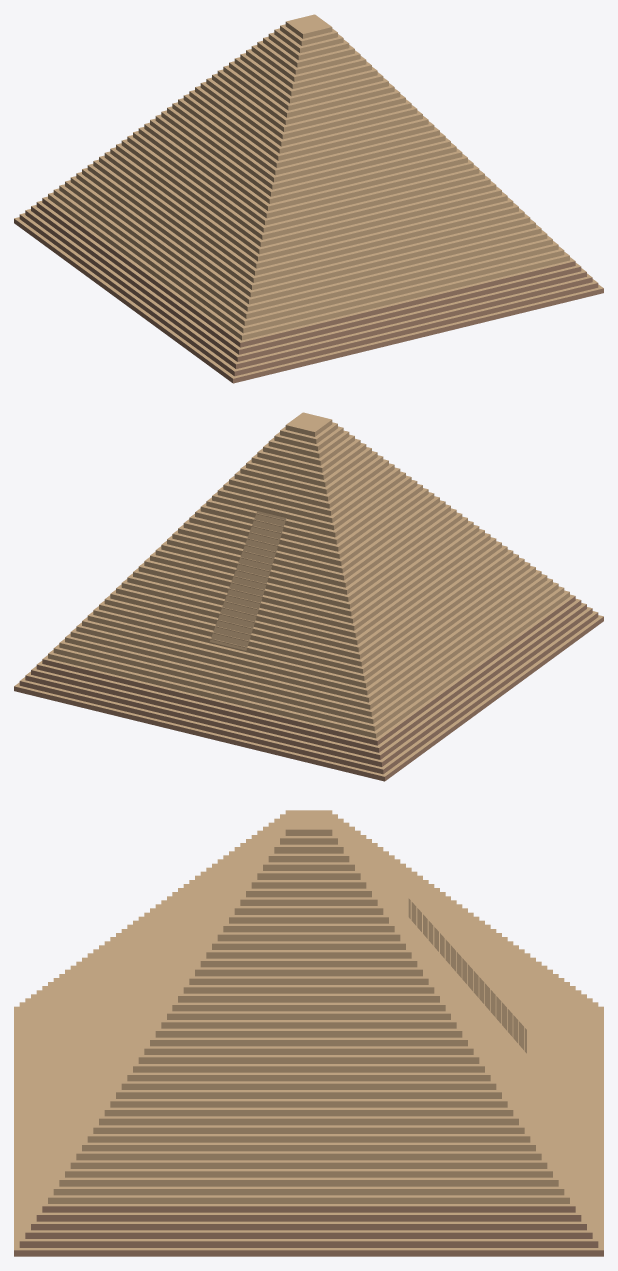
Rendered from giza-pyramid-of-menkaure.glb.
3 views of the same model, one above another, from view 1: azimuth 30°, elevation 25°; view 2: azimuth 150°, elevation 25°; view 3: azimuth 270°, elevation 25° (orthographic). The views are drawn at different scales.
Visible parts, largest first — view 1: Pyramid of Menkaure; view 2: Pyramid of Menkaure; view 3: Pyramid of Menkaure.
Part boxes in pixels (bbox=[...]): Pyramid of Menkaure: bbox=[14, 14, 603, 383]; Pyramid of Menkaure: bbox=[14, 412, 603, 781]; Pyramid of Menkaure: bbox=[14, 810, 603, 1256].
Size of the model in its own units: 101 by 61 by 104.
